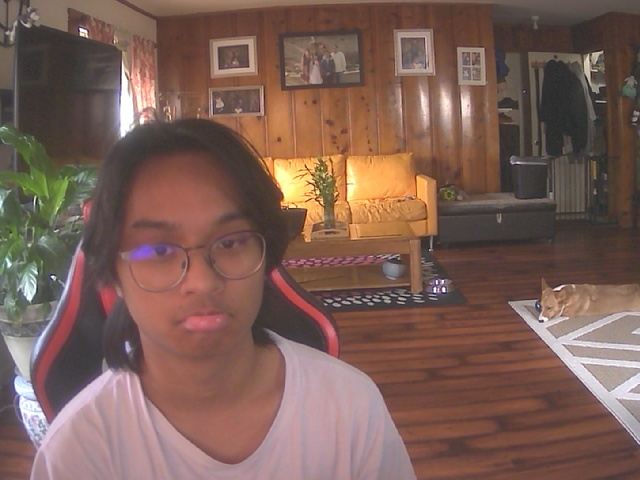sad: (103, 135, 273, 364)
